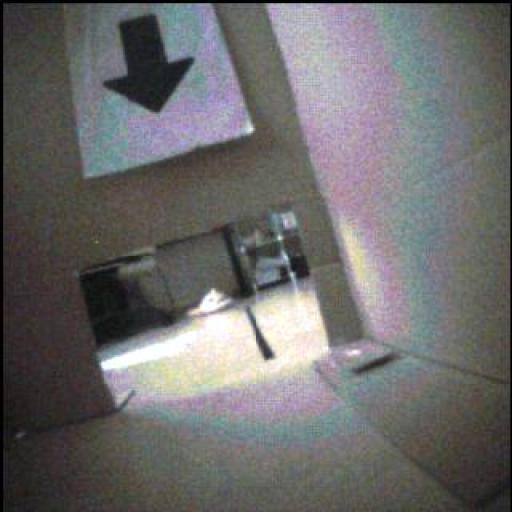arrow: (105, 15, 195, 113)
